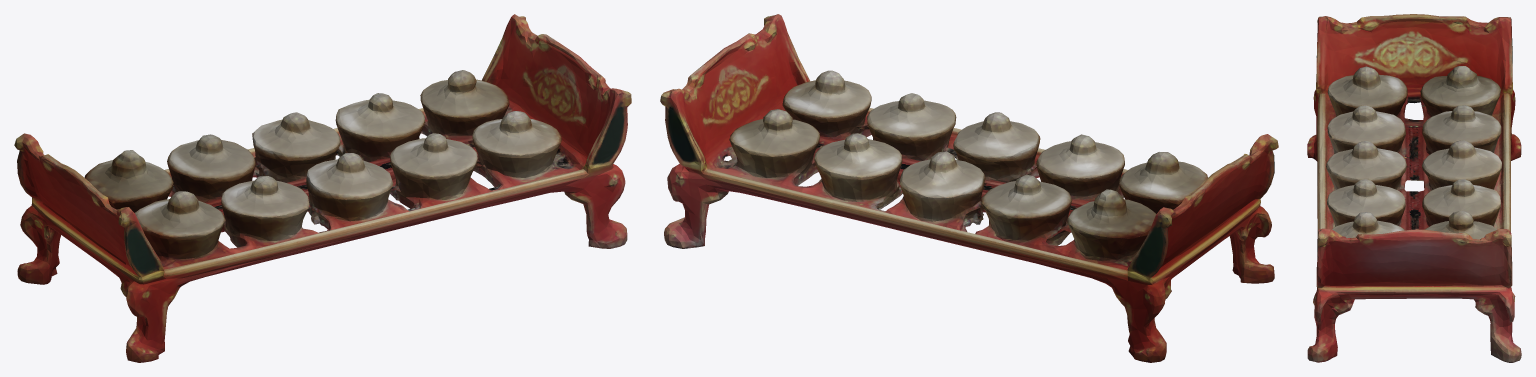
The model's file is daerah-istimewa-yogyakarta.glb.
3 renders of one model, left to right at view 1: azimuth 30°, elevation 25°; view 2: azimuth 150°, elevation 25°; view 3: azimuth 270°, elevation 25°, orthographic. The views are drawn at different scales.
Visible parts, largest first — view 1: world; view 2: world; view 3: world.
Boxes of the visible parts, <box> form: world: <box>14,14,631,362</box>; world: <box>660,14,1278,362</box>; world: <box>1307,14,1521,362</box>.
Bounding box in the file's own units: 0.6975 × 0.1948 × 0.2842.
1 material, 1 textured.
